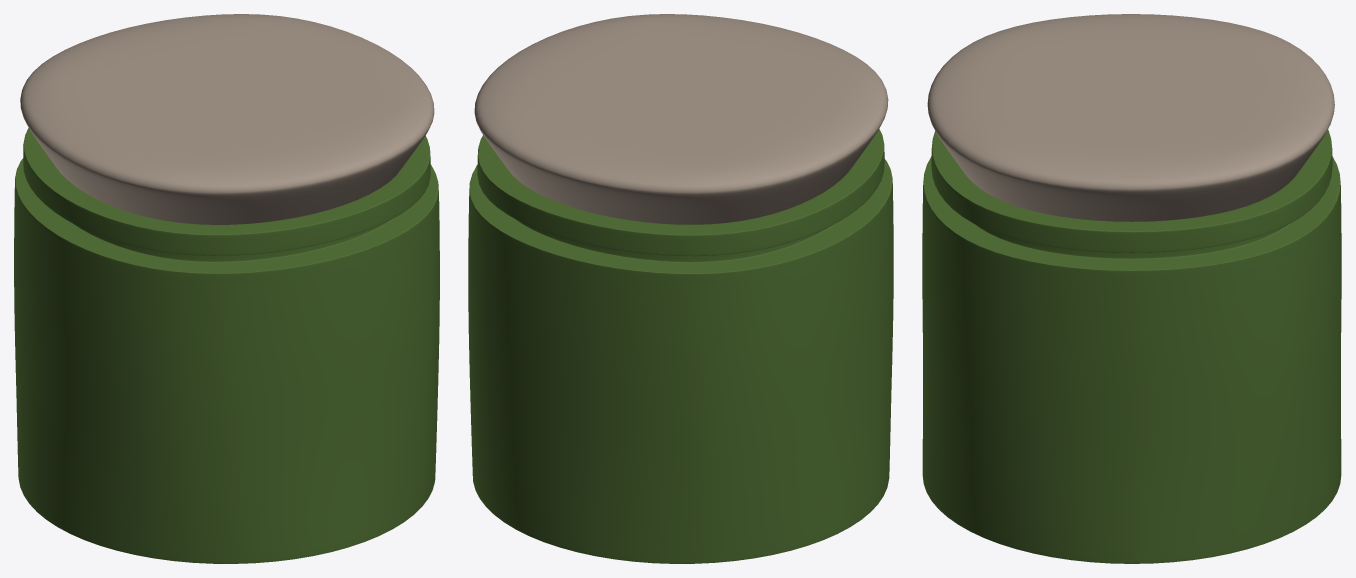
The model's file is jar_short_cork.fbx.
3 renders of one model, left to right at view 1: azimuth 30°, elevation 25°; view 2: azimuth 150°, elevation 25°; view 3: azimuth 270°, elevation 25°, orthographic.
Visible parts, largest first — view 1: jar_short_cork; view 2: jar_short_cork; view 3: jar_short_cork.
Boxes of the visible parts, <box> form: jar_short_cork: <box>14,14,439,563</box>; jar_short_cork: <box>468,14,893,563</box>; jar_short_cork: <box>922,14,1341,563</box>.
Size of the model in its own units: 39.63 by 40.09 by 39.63.
